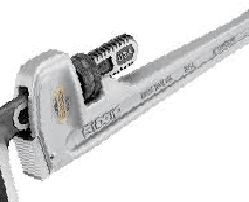Wrench: (5, 9, 249, 194)
